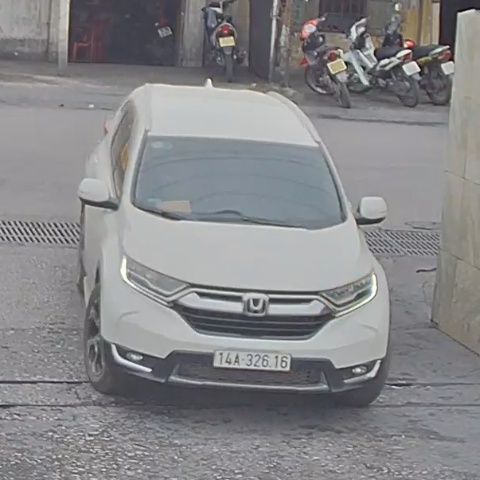vehicle plate: (210, 341, 295, 376)
